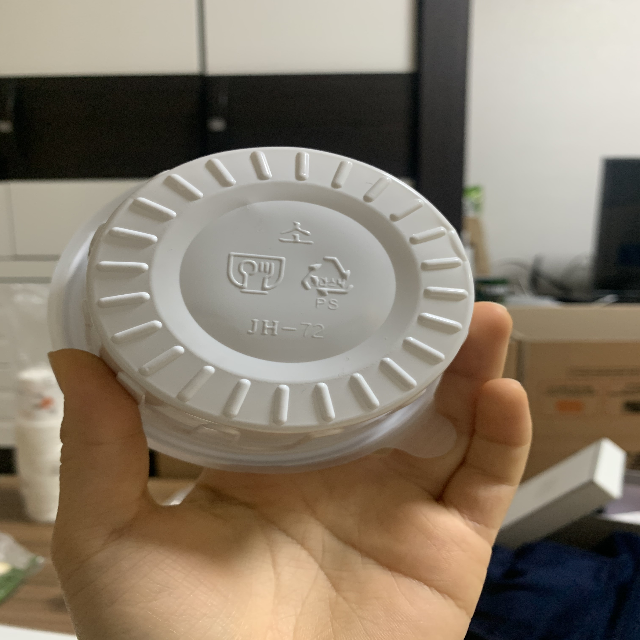ps: (300, 251, 356, 313)
